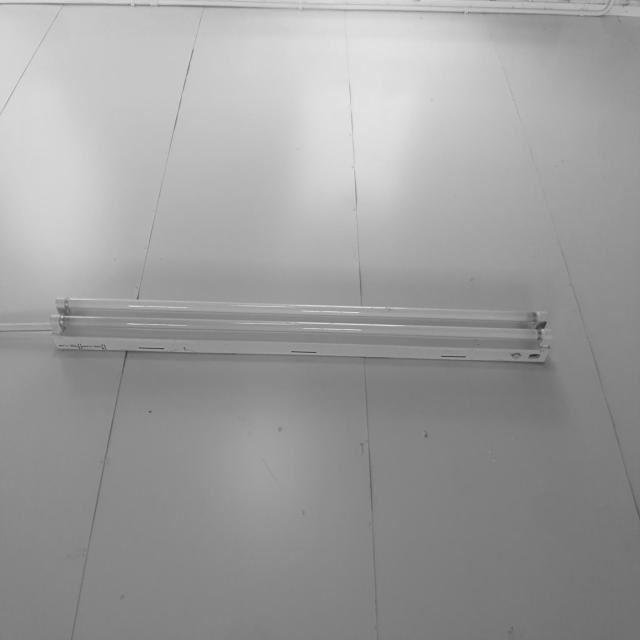light: (49, 296, 552, 365)
